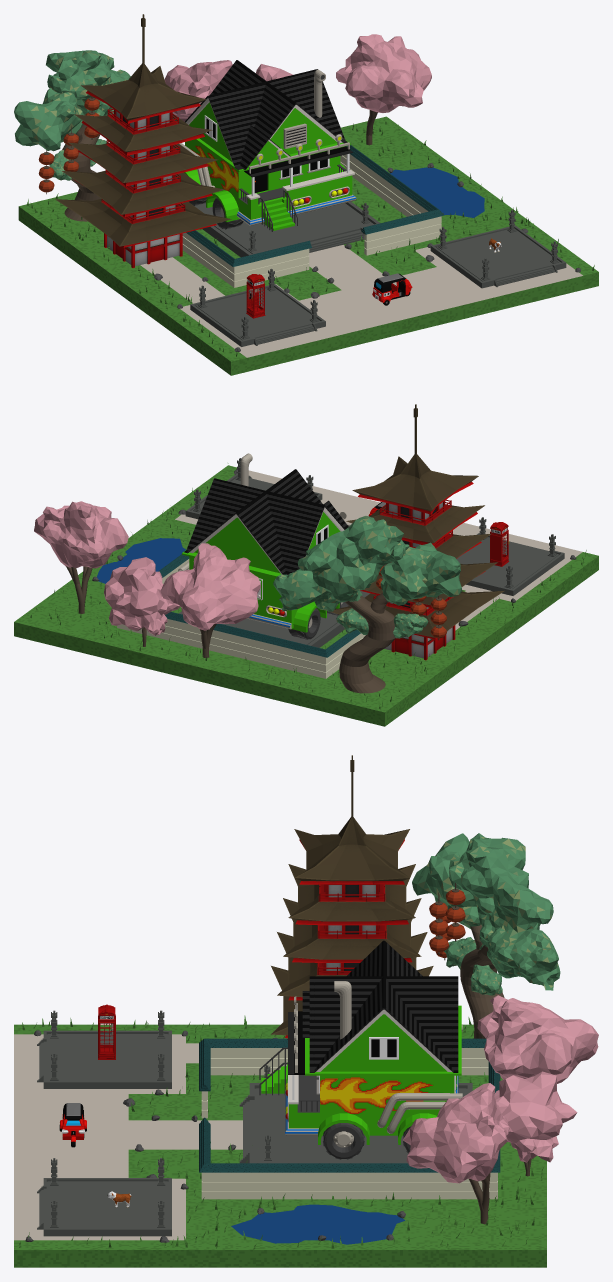
3 views of the same model, one above another, from view 1: azimuth 30°, elevation 25°; view 2: azimuth 150°, elevation 25°; view 3: azimuth 270°, elevation 25° (orthographic). The views are drawn at different scales.
Parts seen in each view (by area): view 1: Cube.005, Cube.1474, VEHICLES_TUC_TUC, OBJRANDOM_PHONEBOOTH; view 2: Cube.005, Cube.1474, OBJRANDOM_PHONEBOOTH; view 3: Cube.005, Cube.1474, VEHICLES_TUC_TUC, OBJRANDOM_PHONEBOOTH.
Part boxes in pixels (bbox=[...]): Cube.005: bbox=[14, 14, 598, 375]; Cube.1474: bbox=[179, 60, 356, 231]; VEHICLES_TUC_TUC: bbox=[372, 273, 412, 305]; OBJRANDOM_PHONEBOOTH: bbox=[246, 274, 265, 318]; Cube.005: bbox=[14, 404, 598, 726]; Cube.1474: bbox=[178, 453, 350, 639]; OBJRANDOM_PHONEBOOTH: bbox=[490, 522, 509, 566]; Cube.005: bbox=[14, 755, 598, 1267]; Cube.1474: bbox=[259, 940, 462, 1159]; VEHICLES_TUC_TUC: bbox=[59, 1103, 86, 1147]; OBJRANDOM_PHONEBOOTH: bbox=[98, 1004, 115, 1059].
Bounding box in the file's own units: 4528 × 2668 × 4389.
56 materials, 6 textured.
